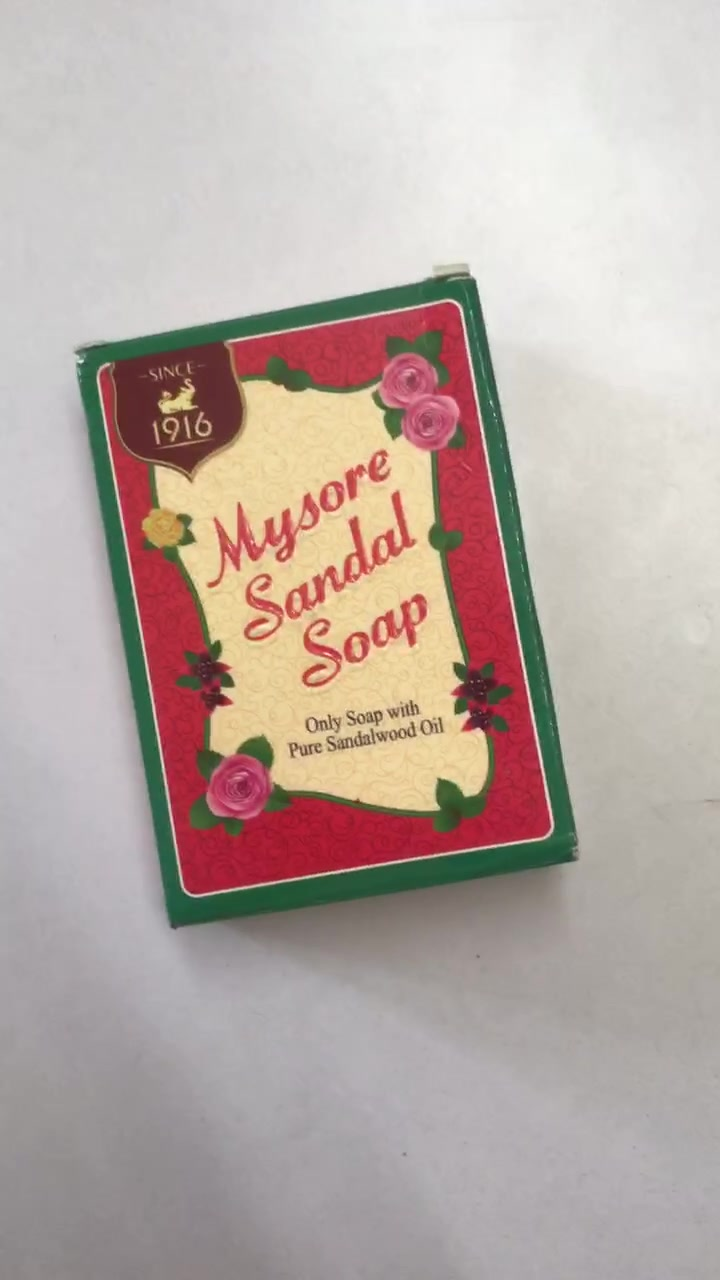mysore sandal soap: (78, 282, 576, 931)
